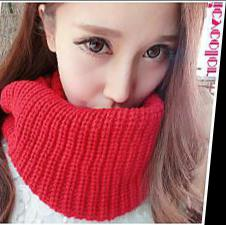WRONG: (55, 20, 179, 131)
